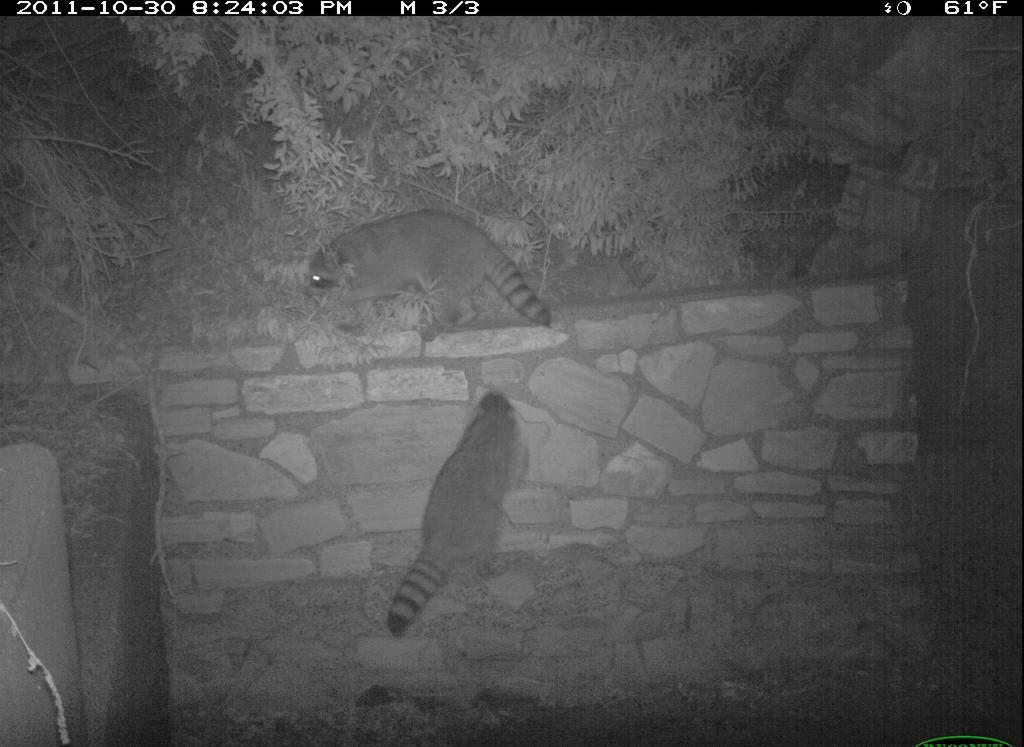raccoon: (377, 382, 529, 639), (303, 199, 560, 349)
